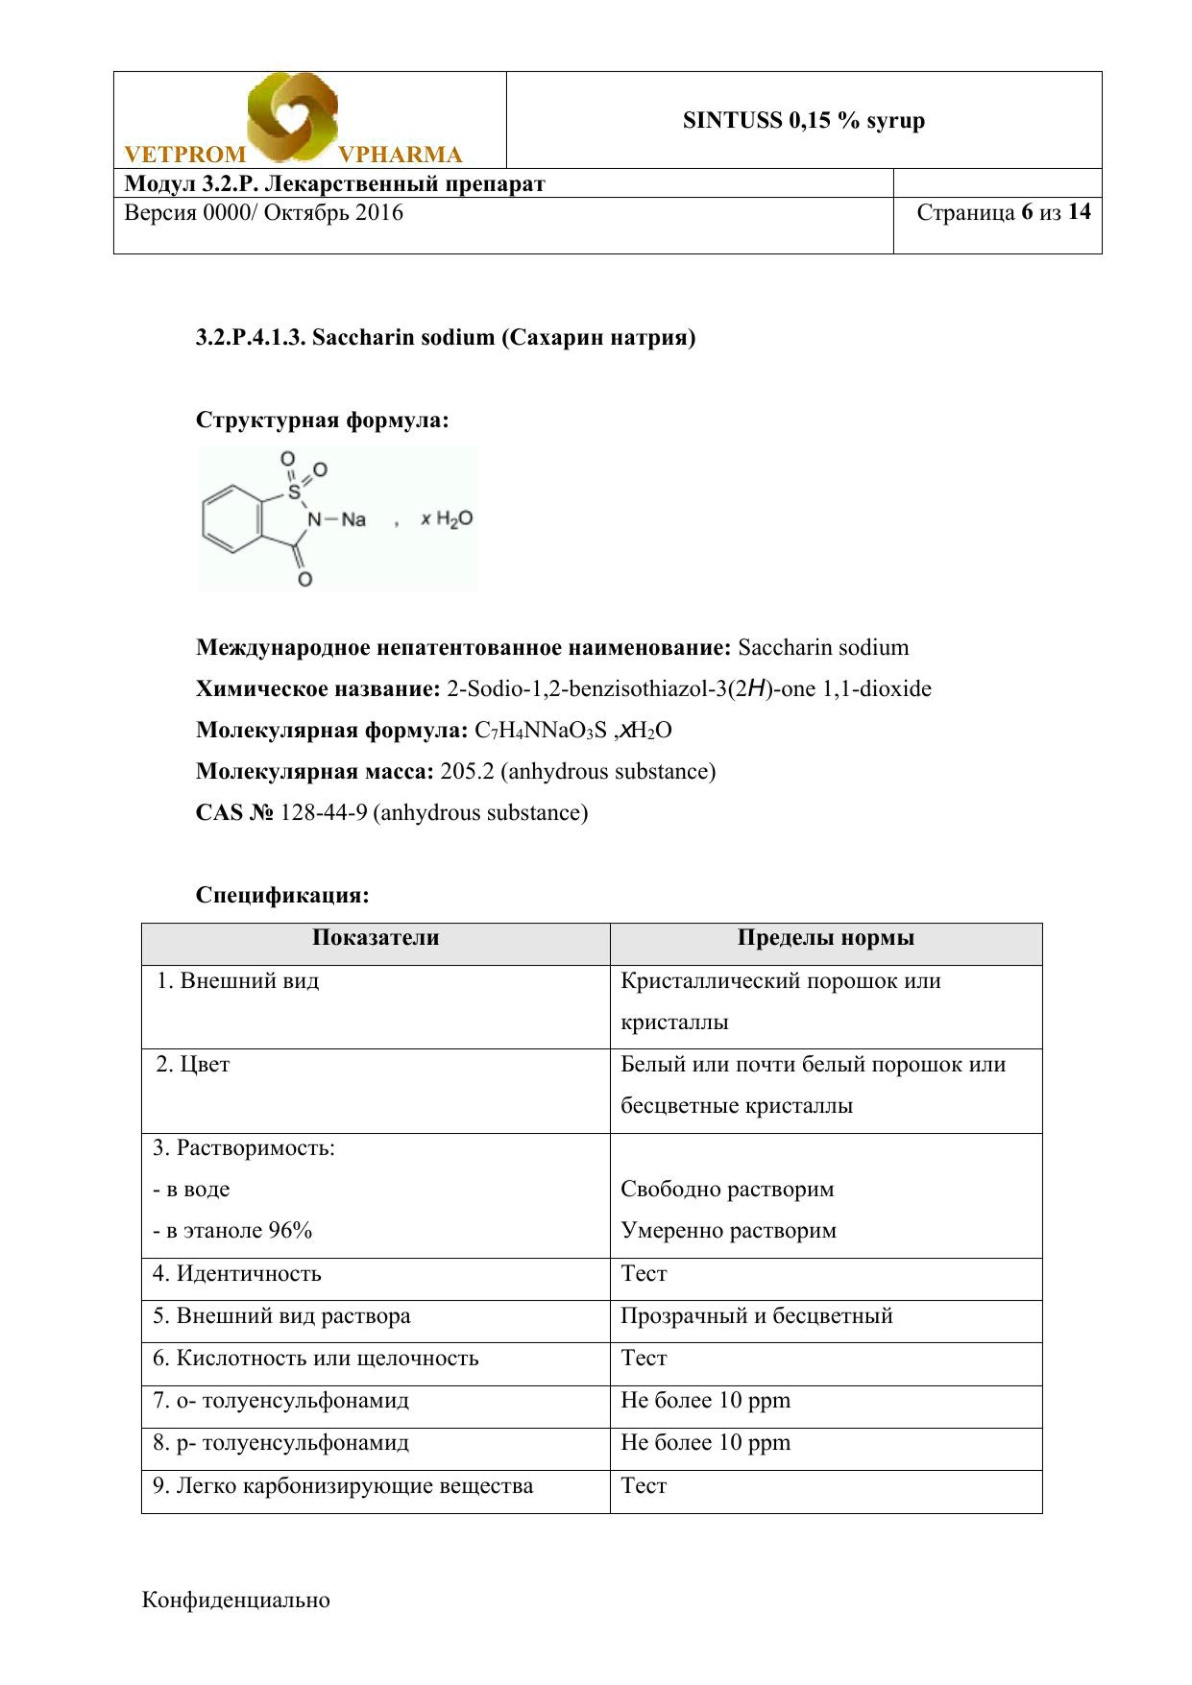full_lined: (139, 921, 1042, 1515)
merged_cells: (112, 70, 1103, 255)
